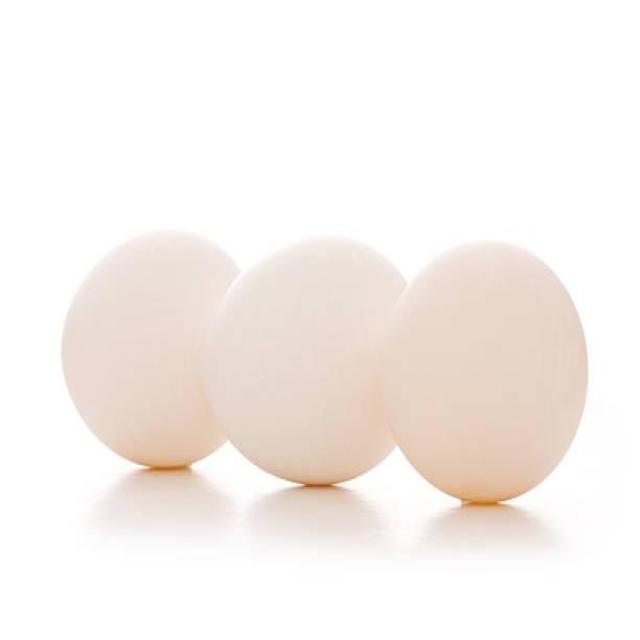Egg: (379, 243, 588, 501), (207, 236, 403, 484), (62, 233, 238, 468)
